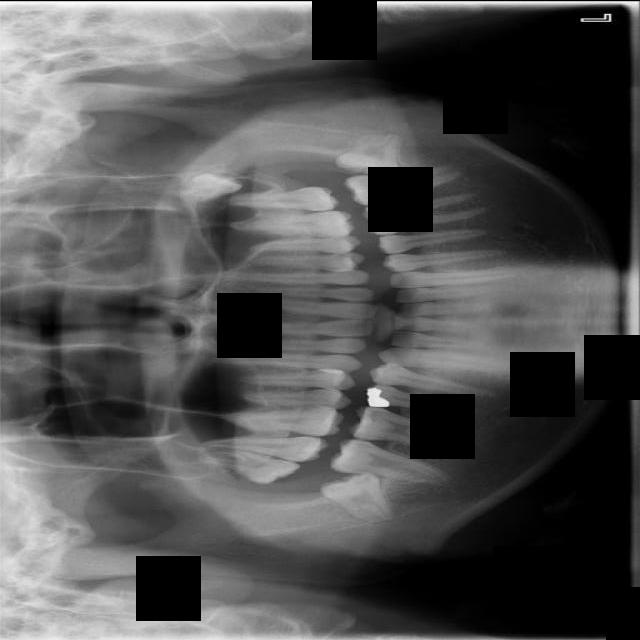3M ESPE Implant: (201, 444, 299, 490)
52: (367, 384, 399, 407)
73: (548, 56, 568, 65)
BioHorizons Implant: (229, 179, 341, 212)
BioLife Implant: (178, 165, 245, 204)
Biomet 3i Implant: (336, 131, 398, 177)
Blue Sky Bio Implant: (345, 161, 460, 207)
Caries: (213, 434, 328, 464)
Implant: (327, 434, 448, 485)
Keystone Dental Implant: (318, 468, 390, 534)
